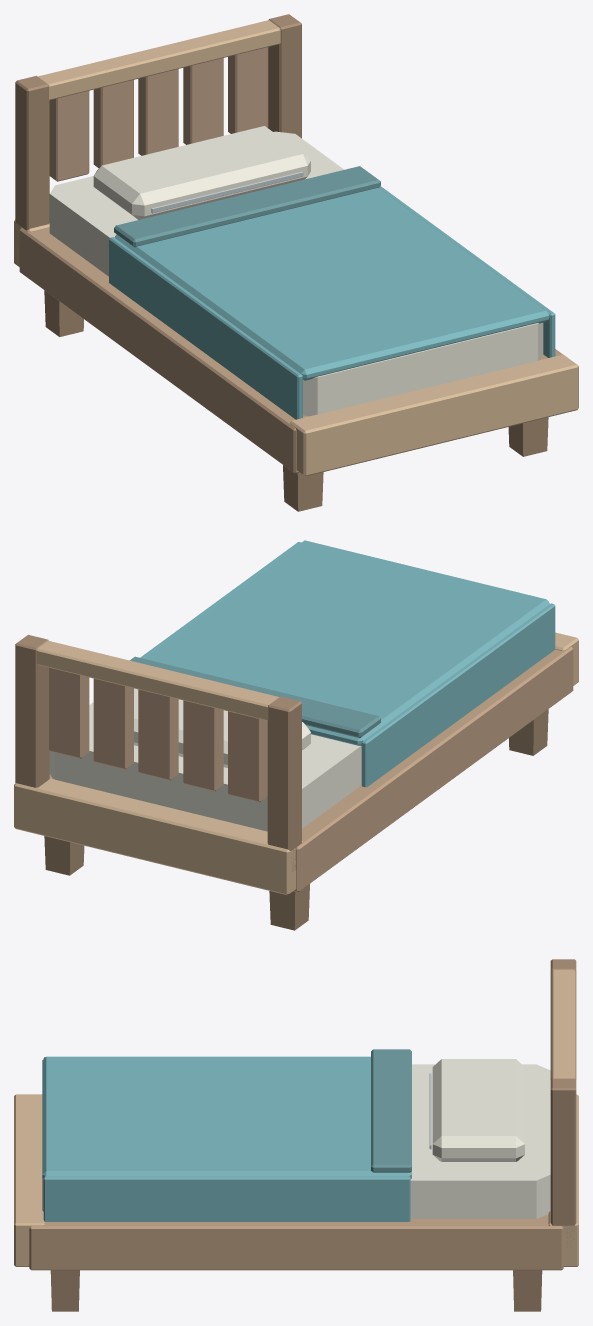
Rendered from bed.glb.
3 renders of one model, top to bottom at view 1: azimuth 30°, elevation 25°; view 2: azimuth 150°, elevation 25°; view 3: azimuth 270°, elevation 25°, orthographic. The views are drawn at different scales.
Parts seen in each view (by area): view 1: bed_folded_cover, bed_end_rail, bed_side_rail, bed_mattress, bed_pillow, bed_cover_drape, bed_cover_fold, bed_headboard_top_rail, bed_head_post, bed_head_post.001, bed_headboard_slat, bed_headboard_slat.004 (+8 smaller); view 2: bed_folded_cover, bed_end_rail.001, bed_side_rail, bed_mattress, bed_cover_drape, bed_headboard_top_rail, bed_head_post, bed_head_post.001, bed_headboard_slat.003, bed_headboard_slat.002, bed_headboard_slat.001, bed_headboard_slat.004 (+8 smaller); view 3: bed_folded_cover, bed_side_rail.001, bed_cover_drape.001, bed_mattress, bed_pillow, bed_cover_fold, bed_end_rail, bed_head_post.001, bed_headboard_top_rail, bed_foot.002, bed_foot.003, bed_end_rail.001 (+1 smaller).
Part boxes in pixels (x1,y1,x2,y2): bed_folded_cover: [114, 187, 549, 380]; bed_end_rail: [289, 354, 578, 476]; bed_side_rail: [19, 227, 308, 473]; bed_mattress: [49, 131, 543, 416]; bed_pillow: [93, 126, 310, 219]; bed_cover_drape: [109, 237, 302, 419]; bed_cover_fold: [114, 166, 380, 247]; bed_headboard_top_rail: [38, 20, 280, 100]; bed_head_post: [15, 75, 49, 240]; bed_head_post.001: [268, 14, 301, 138]; bed_headboard_slat: [49, 91, 89, 181]; bed_headboard_slat.004: [228, 47, 268, 133]; bed_folded_cover: [143, 540, 549, 745]; bed_end_rail.001: [14, 778, 303, 895]; bed_side_rail: [293, 646, 573, 892]; bed_mattress: [49, 702, 361, 831]; bed_cover_drape: [361, 603, 555, 787]; bed_headboard_top_rail: [36, 640, 279, 720]; bed_head_post: [267, 696, 301, 871]; bed_head_post.001: [15, 634, 49, 787]; bed_headboard_slat.003: [93, 678, 133, 769]; bed_headboard_slat.002: [138, 689, 178, 780]; bed_headboard_slat.001: [183, 700, 223, 791]; bed_headboard_slat.004: [49, 667, 89, 758]; bed_folded_cover: [42, 1056, 411, 1178]; bed_side_rail.001: [29, 1215, 563, 1270]; bed_cover_drape.001: [43, 1176, 410, 1221]; bed_mattress: [42, 1064, 550, 1218]; bed_pillow: [432, 1059, 524, 1161]; bed_cover_fold: [371, 1049, 411, 1172]; bed_end_rail: [14, 1094, 44, 1266]; bed_head_post.001: [550, 1078, 576, 1242]; bed_headboard_top_rail: [551, 969, 575, 1079]; bed_foot.002: [50, 1270, 79, 1311]; bed_foot.003: [513, 1270, 542, 1311]; bed_end_rail.001: [548, 1094, 578, 1266].
Size of the model in its own units: 1.22 by 0.985 by 2.2.
